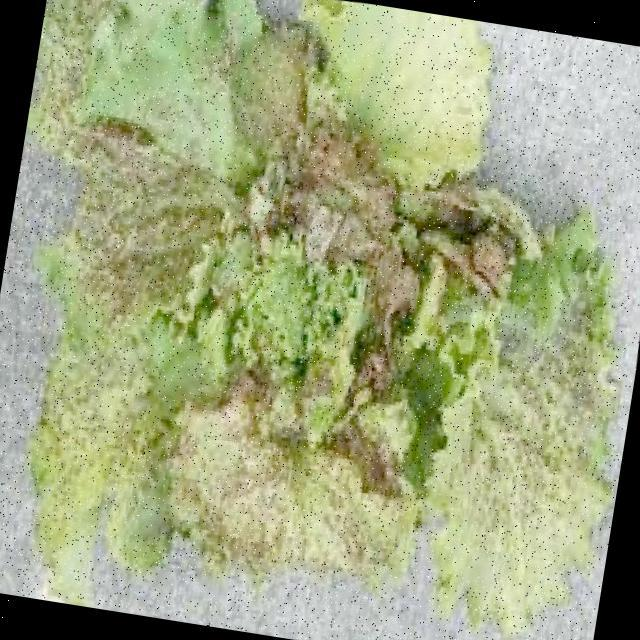Lettuce Mosaic Virus: (133, 87, 474, 542)
